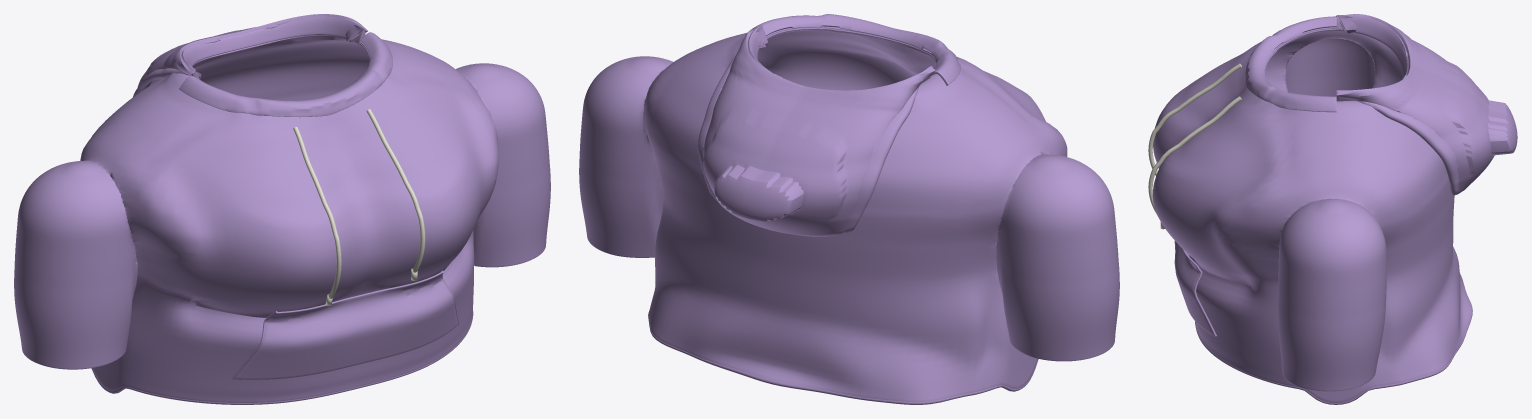
File: Feminine-sweatshirt-top.glb
3 renders of one model, left to right at view 1: azimuth 30°, elevation 25°; view 2: azimuth 150°, elevation 25°; view 3: azimuth 270°, elevation 25°, orthographic. The views are drawn at different scales.
Visible parts, largest first — view 1: Clothing / joined sweatshirt186, Hoodie / kangaroo pocket, Hoodie / soft front fold188, Hoodie / seated rear fold187, Hoodie / resting hood, Hoodie / drawcord -1 export, Top / seated hoodie hem191 export, Hoodie / drawcord 1 export; view 2: Clothing / joined sweatshirt186, Hoodie / resting hood, Hoodie / soft front fold188, Top / seated hoodie hem191 export; view 3: Clothing / joined sweatshirt186, Hoodie / resting hood, Hoodie / soft front fold188, Hoodie / seated rear fold187, Hoodie / kangaroo pocket, Top / seated hoodie hem191 export, Hoodie / drawcord -1 export, Hoodie / drawcord 1 export.
Part boxes in pixels (x1,y1,x2,y2): Clothing / joined sweatshirt186: (14, 35, 550, 402); Hoodie / kangaroo pocket: (234, 272, 458, 379); Hoodie / soft front fold188: (179, 32, 392, 117); Hoodie / seated rear fold187: (181, 16, 366, 78); Hoodie / resting hood: (133, 14, 367, 96); Hoodie / drawcord -1 export: (293, 127, 341, 298); Top / seated hoodie hem191 export: (91, 311, 473, 404); Hoodie / drawcord 1 export: (366, 109, 425, 272); Clothing / joined sweatshirt186: (579, 26, 1119, 402); Hoodie / resting hood: (698, 25, 935, 236); Hoodie / soft front fold188: (745, 14, 960, 85); Top / seated hoodie hem191 export: (648, 311, 1038, 404); Clothing / joined sweatshirt186: (1152, 27, 1471, 403); Hoodie / resting hood: (1336, 14, 1517, 195); Hoodie / soft front fold188: (1245, 16, 1336, 112); Hoodie / seated rear fold187: (1336, 15, 1408, 101); Hoodie / kangaroo pocket: (1174, 240, 1214, 335); Top / seated hoodie hem191 export: (1195, 276, 1472, 404); Hoodie / drawcord -1 export: (1148, 63, 1241, 175); Hoodie / drawcord 1 export: (1148, 96, 1241, 214).
Bounding box in the file's own units: 0.9441 × 0.5166 × 0.629.
